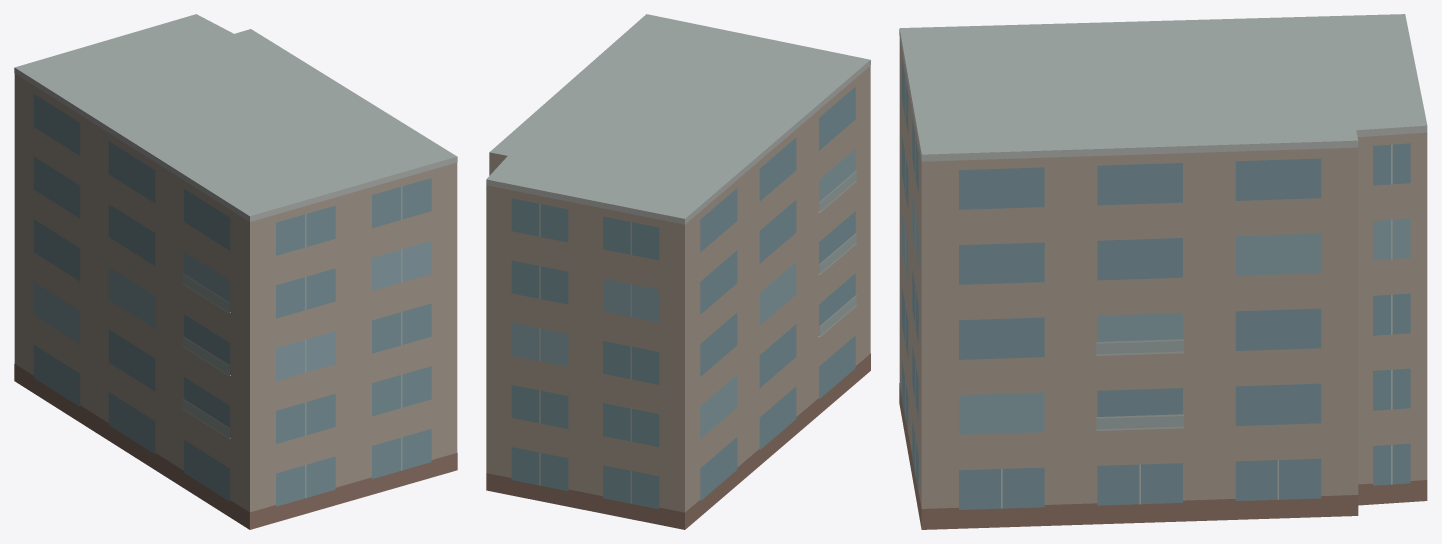
The model's file is survey-upis-32916339.glb.
3 renders of one model, left to right at view 1: azimuth 30°, elevation 25°; view 2: azimuth 150°, elevation 25°; view 3: azimuth 270°, elevation 25°, orthographic. The views are drawn at different scales.
Parts seen in each view (by area): view 1: survey-upis-32916339.tmp; view 2: survey-upis-32916339.tmp; view 3: survey-upis-32916339.tmp.
Boxes of the visible parts, x1,y1,x2,y2 form: survey-upis-32916339.tmp: (14,14,457,529); survey-upis-32916339.tmp: (486,14,870,529); survey-upis-32916339.tmp: (899,14,1427,529).
Size of the model in its own units: 10.62 by 13.2 by 16.84.
